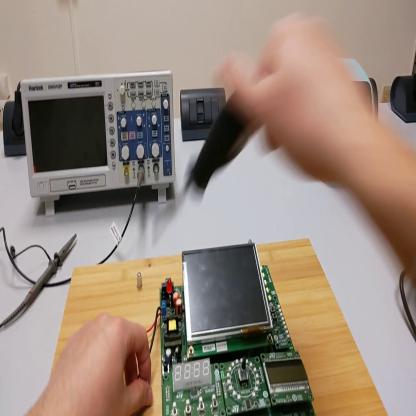hand: (213, 14, 362, 186), (47, 310, 155, 413)
low voltage board: (144, 245, 314, 414)
oscilloscope: (19, 72, 174, 215)
oscilloscope probe tip: (3, 233, 77, 328)
screwdriver-: (151, 89, 248, 244)
socket: (3, 100, 27, 157), (390, 75, 416, 123), (371, 77, 379, 115)
welder station: (340, 62, 375, 124)
working area: (54, 238, 388, 416)
